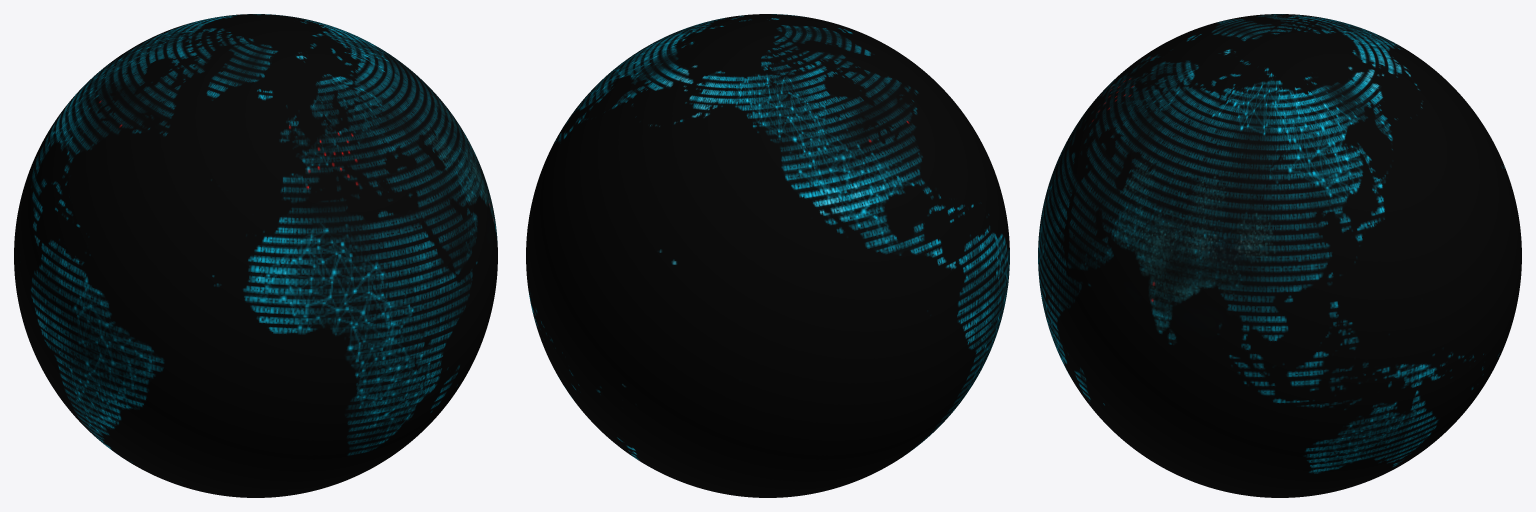
Rendered from Erarth_india_section.glb.
The picture shows the model from 3 angles, left to right: view 1: azimuth 30°, elevation 25°; view 2: azimuth 150°, elevation 25°; view 3: azimuth 270°, elevation 25°; orthographic projection.
Visible parts, largest first — view 1: EARTH:Layer1_TERRE_0.001; view 2: EARTH:Layer1_TERRE_0.001; view 3: EARTH:Layer1_TERRE_0.001.
Part boxes in pixels (box(x1,y1,x2,y2)): EARTH:Layer1_TERRE_0.001: box(14, 14, 497, 497); EARTH:Layer1_TERRE_0.001: box(526, 14, 1009, 497); EARTH:Layer1_TERRE_0.001: box(1038, 14, 1521, 497).
Size of the model in its own units: 201 by 201 by 201.
Materials: 2 (1 with a texture image).
